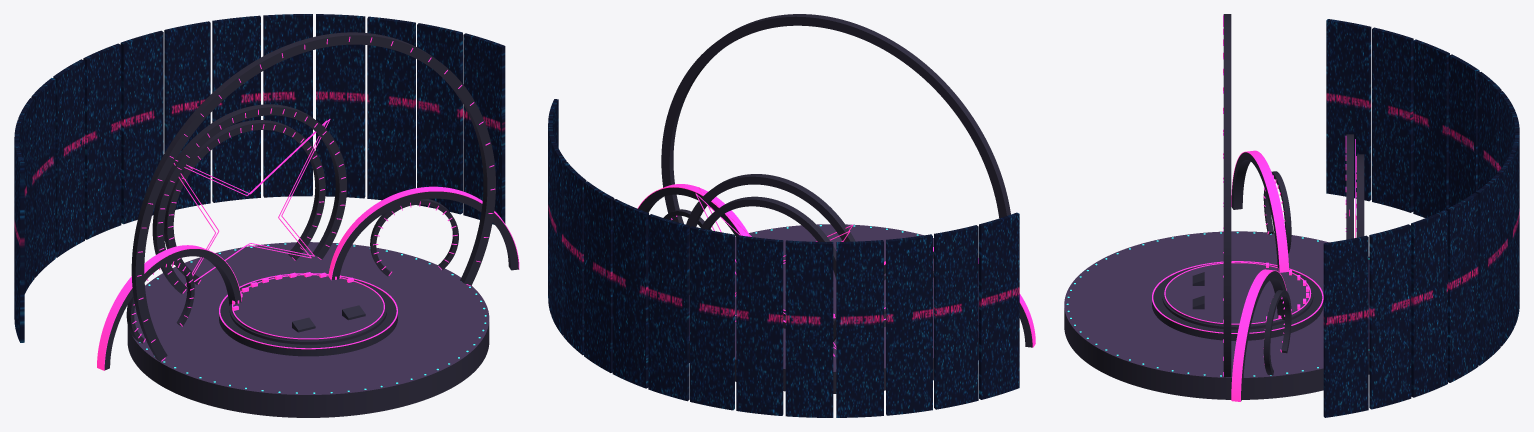
Rendered from ring-remake-R01D-material.glb.
3 views of the same model, side by side, from view 1: azimuth 30°, elevation 25°; view 2: azimuth 150°, elevation 25°; view 3: azimuth 270°, elevation 25° (orthographic). The views are drawn at different scales.
Parts seen in each view (by area): view 1: P_OUT_single_closed_body, ARCH_LARGEST_TOP_UNSEEN, LED_PANEL_02_BACKSIDE_INFERRED, LED_PANEL_03_BACKSIDE_INFERRED, LED_PANEL_04_BACKSIDE_INFERRED, P_IN_performance_disc, LED_PANEL_01_BACKSIDE_INFERRED, LED_PANEL_05_BACKSIDE_INFERRED, LED_PANEL_07_BACKSIDE_INFERRED, LED_PANEL_08_BACKSIDE_INFERRED, LED_PANEL_06_BACKSIDE_INFERRED, LED_PANEL_00_BACKSIDE_INFERRED (+16 smaller); view 2: LED_PANEL_09_BACKSIDE_INFERRED, LED_PANEL_08_BACKSIDE_INFERRED, LED_PANEL_10_BACKSIDE_INFERRED, LED_PANEL_11_BACKSIDE_INFERRED, LED_PANEL_07_BACKSIDE_INFERRED, LED_PANEL_12_BACKSIDE_INFERRED, LED_PANEL_06_BACKSIDE_INFERRED, LED_PANEL_13_BACKSIDE_INFERRED, ARCH_LARGEST_TOP_UNSEEN, LED_PANEL_05_BACKSIDE_INFERRED, LED_PANEL_04_BACKSIDE_INFERRED, LED_PANEL_03_BACKSIDE_INFERRED (+7 smaller); view 3: P_OUT_single_closed_body, LED_PANEL_00_BACKSIDE_INFERRED, LED_PANEL_01_BACKSIDE_INFERRED, LED_PANEL_12_BACKSIDE_INFERRED, LED_PANEL_13_BACKSIDE_INFERRED, LED_PANEL_02_BACKSIDE_INFERRED, LED_PANEL_11_BACKSIDE_INFERRED, LED_PANEL_03_BACKSIDE_INFERRED, P_IN_performance_disc, LED_PANEL_10_BACKSIDE_INFERRED, LED_PANEL_04_BACKSIDE_INFERRED, ARCH_LARGEST_TOP_UNSEEN (+16 smaller).
Boxes of the visible parts, box(x1,y1,x2,y2) form: P_OUT_single_closed_body: box(127, 242, 489, 417); ARCH_LARGEST_TOP_UNSEEN: box(131, 32, 495, 361); LED_PANEL_02_BACKSIDE_INFERRED: box(367, 16, 415, 200); LED_PANEL_03_BACKSIDE_INFERRED: box(316, 14, 365, 198); LED_PANEL_04_BACKSIDE_INFERRED: box(263, 14, 312, 197); P_IN_performance_disc: box(232, 275, 384, 340); LED_PANEL_01_BACKSIDE_INFERRED: box(417, 23, 462, 214); LED_PANEL_05_BACKSIDE_INFERRED: box(212, 15, 260, 202); LED_PANEL_07_BACKSIDE_INFERRED: box(120, 30, 163, 224); LED_PANEL_08_BACKSIDE_INFERRED: box(83, 43, 121, 239); LED_PANEL_06_BACKSIDE_INFERRED: box(164, 21, 210, 209); LED_PANEL_00_BACKSIDE_INFERRED: box(463, 33, 505, 224); LED_PANEL_09_BACKSIDE_INFERRED: box(785, 240, 833, 417); LED_PANEL_08_BACKSIDE_INFERRED: box(736, 235, 783, 415); LED_PANEL_10_BACKSIDE_INFERRED: box(836, 240, 883, 417); LED_PANEL_11_BACKSIDE_INFERRED: box(886, 234, 932, 415); LED_PANEL_07_BACKSIDE_INFERRED: box(690, 226, 734, 410); LED_PANEL_12_BACKSIDE_INFERRED: box(934, 225, 978, 409); LED_PANEL_06_BACKSIDE_INFERRED: box(648, 214, 689, 401); LED_PANEL_13_BACKSIDE_INFERRED: box(979, 212, 1019, 399); ARCH_LARGEST_TOP_UNSEEN: box(661, 14, 1010, 325); LED_PANEL_05_BACKSIDE_INFERRED: box(612, 199, 648, 388); LED_PANEL_04_BACKSIDE_INFERRED: box(584, 181, 614, 372); LED_PANEL_03_BACKSIDE_INFERRED: box(563, 162, 586, 355); P_OUT_single_closed_body: box(1064, 231, 1369, 399); LED_PANEL_00_BACKSIDE_INFERRED: box(1323, 235, 1368, 417); LED_PANEL_01_BACKSIDE_INFERRED: box(1369, 224, 1411, 409); LED_PANEL_12_BACKSIDE_INFERRED: box(1372, 27, 1413, 212); LED_PANEL_13_BACKSIDE_INFERRED: box(1326, 19, 1371, 201); LED_PANEL_02_BACKSIDE_INFERRED: box(1411, 210, 1447, 397); LED_PANEL_11_BACKSIDE_INFERRED: box(1413, 39, 1449, 217); LED_PANEL_03_BACKSIDE_INFERRED: box(1446, 193, 1478, 382); P_IN_performance_disc: box(1164, 263, 1311, 326); LED_PANEL_10_BACKSIDE_INFERRED: box(1448, 54, 1479, 207); LED_PANEL_04_BACKSIDE_INFERRED: box(1476, 174, 1500, 365); ARCH_LARGEST_TOP_UNSEEN: box(1223, 14, 1231, 377).
Bounding box in the file's own units: 30.85 × 18.7 × 26.25.
5 materials, 1 textured.
